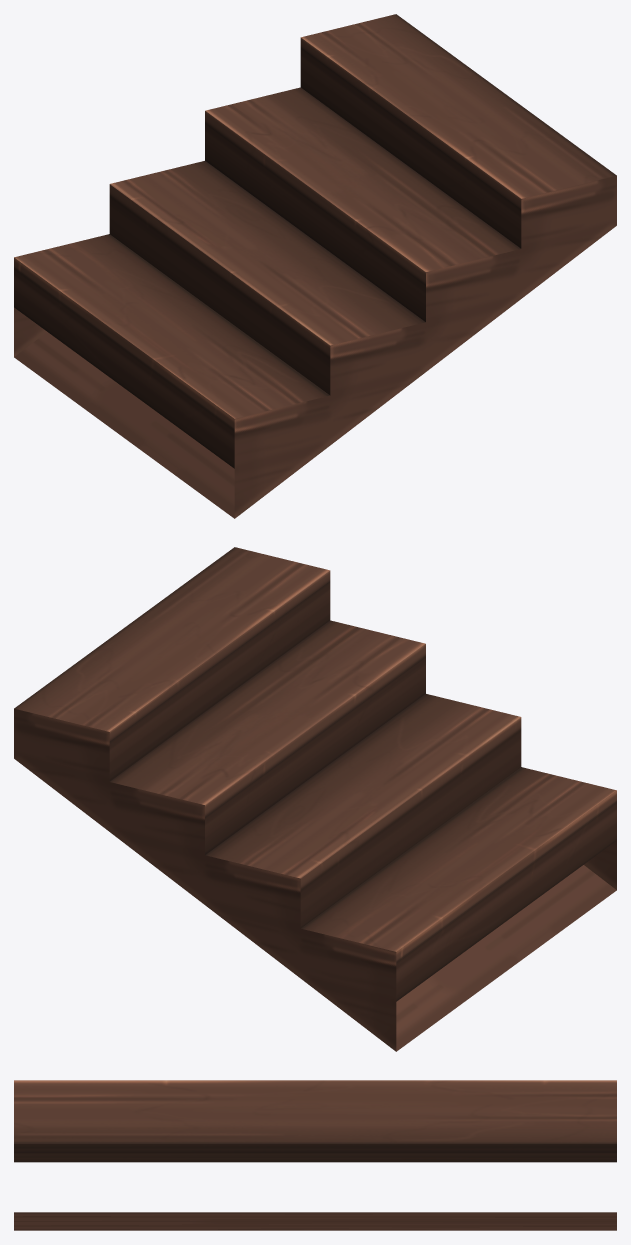
The model's file is Stair_wood.fbx.
3 renders of one model, top to bottom at view 1: azimuth 30°, elevation 25°; view 2: azimuth 150°, elevation 25°; view 3: azimuth 270°, elevation 25°, orthographic. The views are drawn at different scales.
Parts seen in each view (by area): view 1: pCube54; view 2: pCube54; view 3: pCube54.
Boxes of the visible parts, x1,y1,x2,y2 form: pCube54: (14, 14, 616, 518); pCube54: (14, 547, 616, 1051); pCube54: (14, 1080, 616, 1230).
Size of the model in its own units: 2 by 1.25 by 2.
